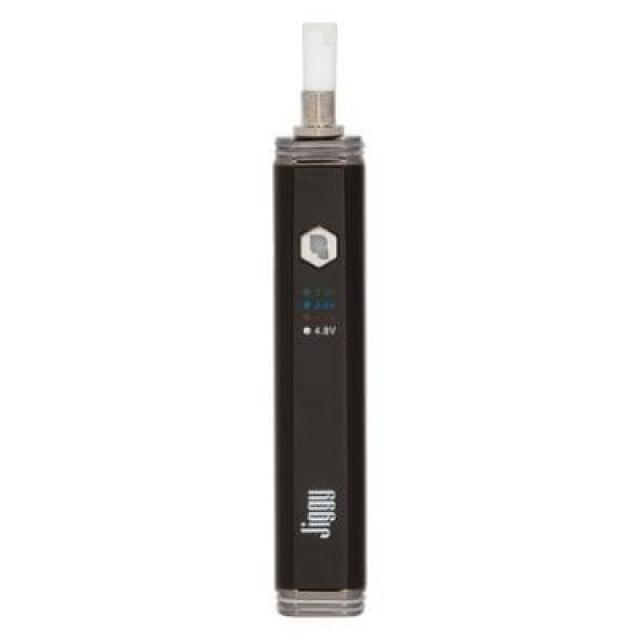Hazard: (270, 19, 368, 618)
